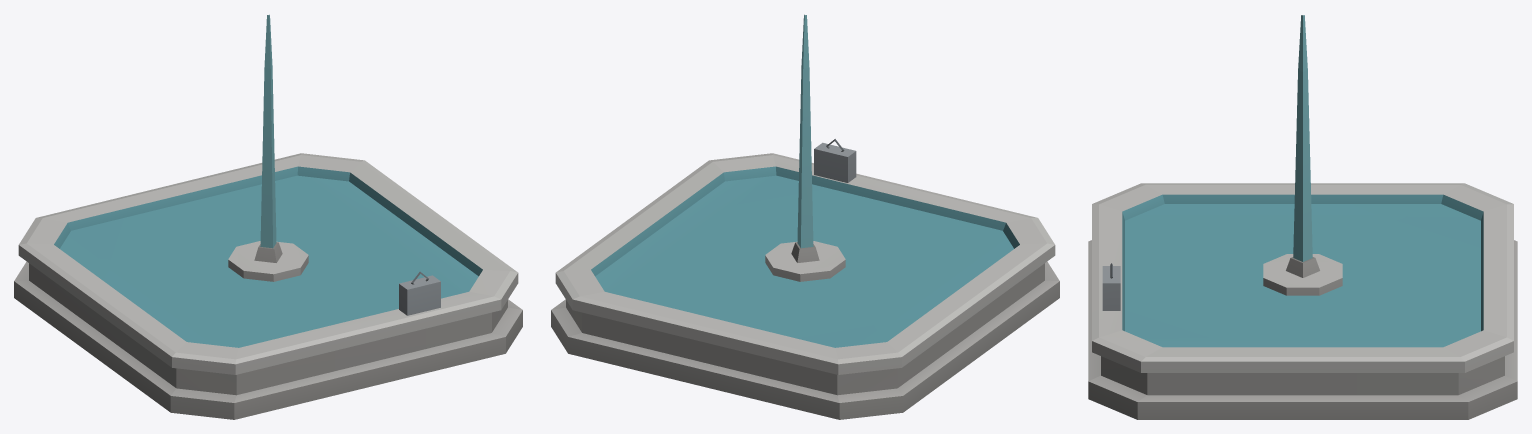
File: fountain.lod2.glb
3 views of the same model, side by side, from view 1: azimuth 30°, elevation 25°; view 2: azimuth 150°, elevation 25°; view 3: azimuth 270°, elevation 25° (orthographic). The views are drawn at different scales.
Bounding box in the file's own units: 4.8 × 3.88 × 4.8.
